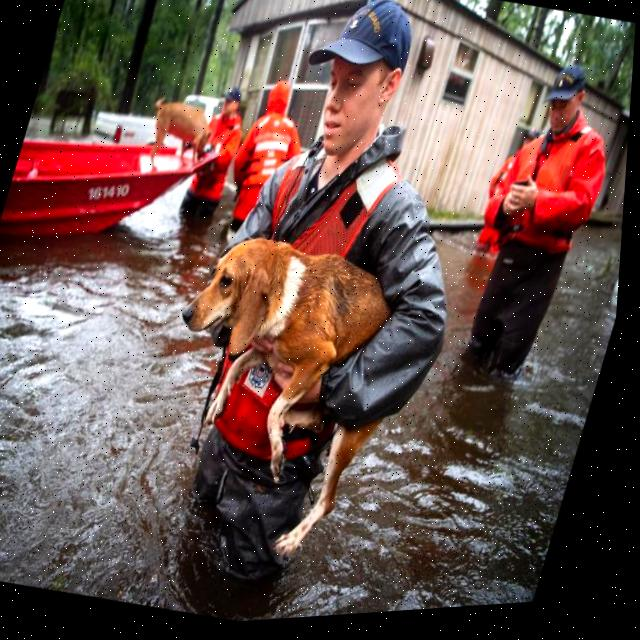dog: (110, 210, 446, 583), (132, 84, 230, 178)
rescuer: (121, 0, 553, 626), (434, 38, 635, 393), (206, 62, 321, 241), (168, 71, 262, 238)
